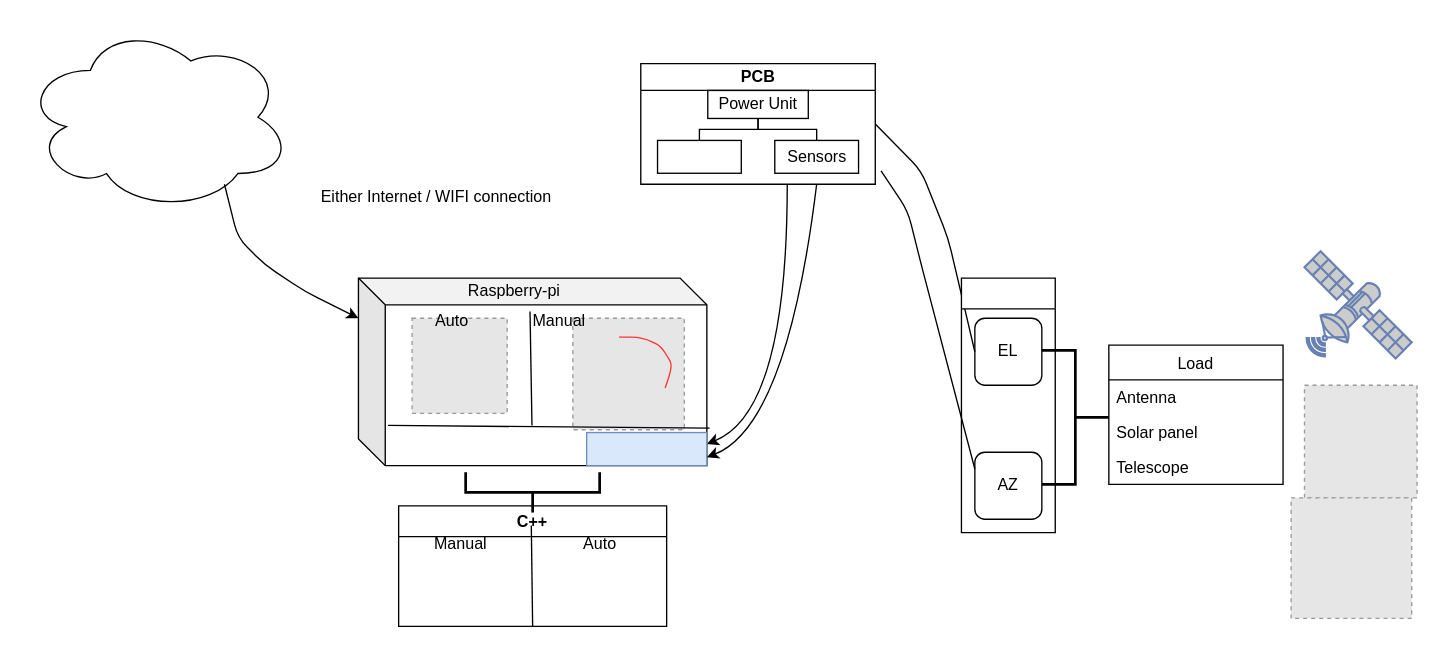
The diagram is 1441 pixels wide and 651 high, and some of its shapes have lost their labels. Grey dashed boxes stand in for pictures. The centre of each missing label's shape, as x and y in pixels:
"Cloud/Internet (NASA,ASYO etc. API)" goes at (x=156, y=116).
"GPIO" goes at (x=646, y=448).
"Stepper Driver" goes at (x=698, y=156).
"Stepper M" goes at (x=1007, y=405).
